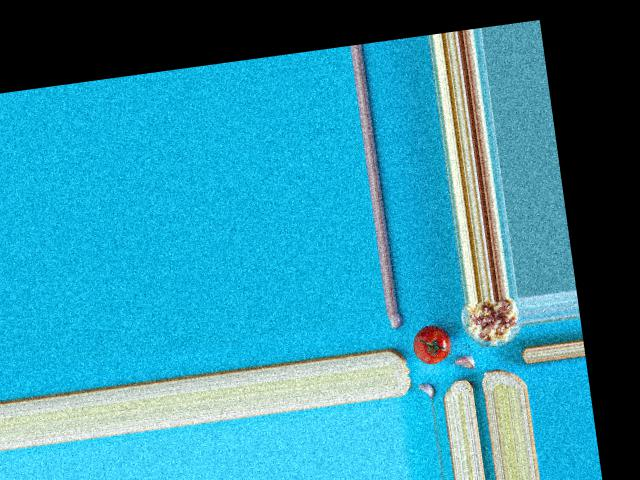tomato: (410, 323, 451, 366)
